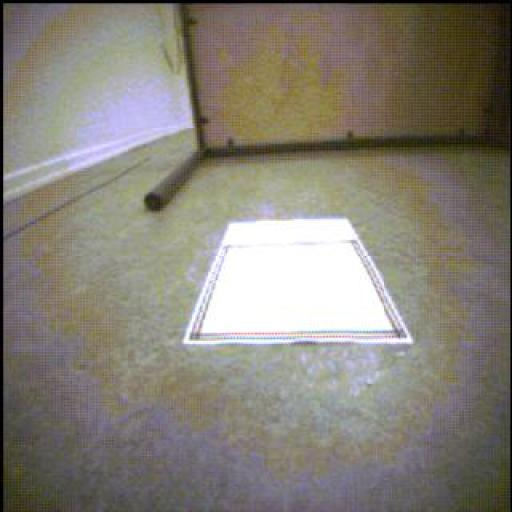Pad: (185, 220, 414, 347)
